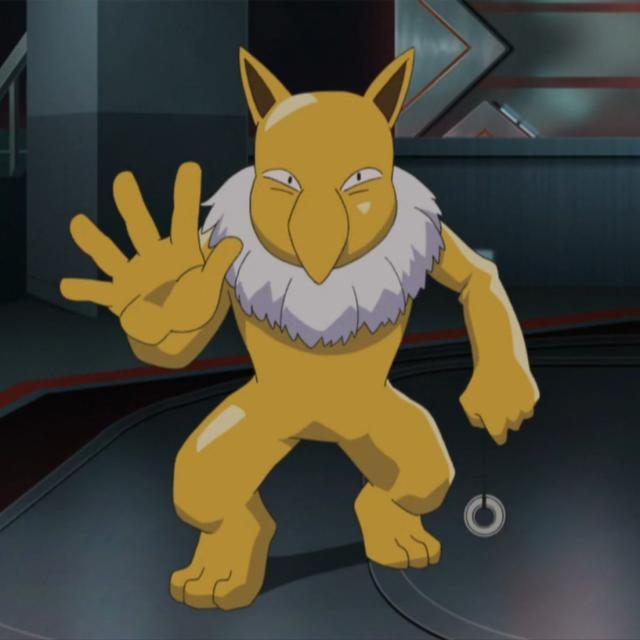Hypno: (151, 45, 551, 612)
